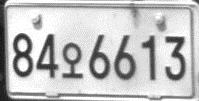1: (141, 34, 157, 81)
3: (164, 35, 186, 80)
4: (36, 33, 59, 78)
6: (87, 33, 111, 81), (113, 33, 137, 81)
8: (12, 32, 34, 77)
오: (62, 42, 84, 79)
